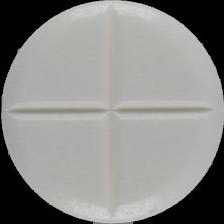61919-221: (0, 0, 224, 224)
